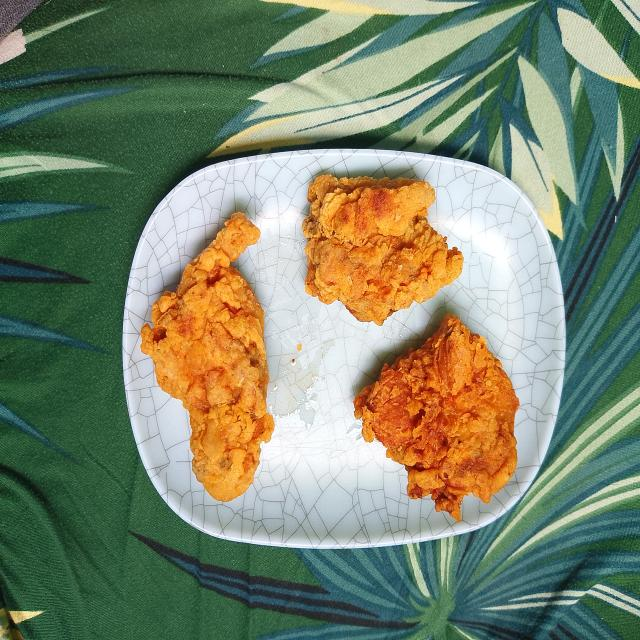Chicken -Fried Chicken-: (133, 200, 289, 508), (346, 298, 530, 526), (294, 155, 466, 330)
